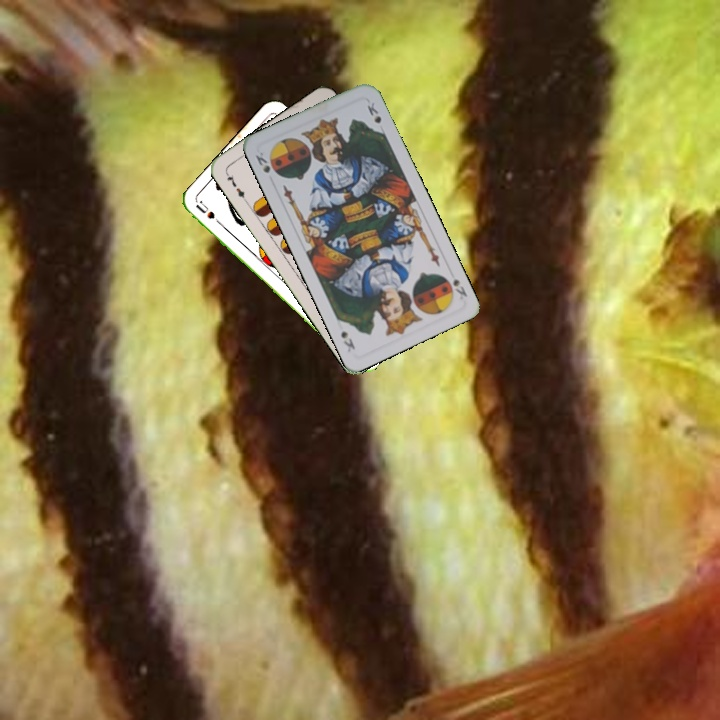E7: (222, 168, 249, 204)
SK: (440, 266, 470, 302), (251, 148, 273, 176)
SU: (192, 198, 227, 231)
